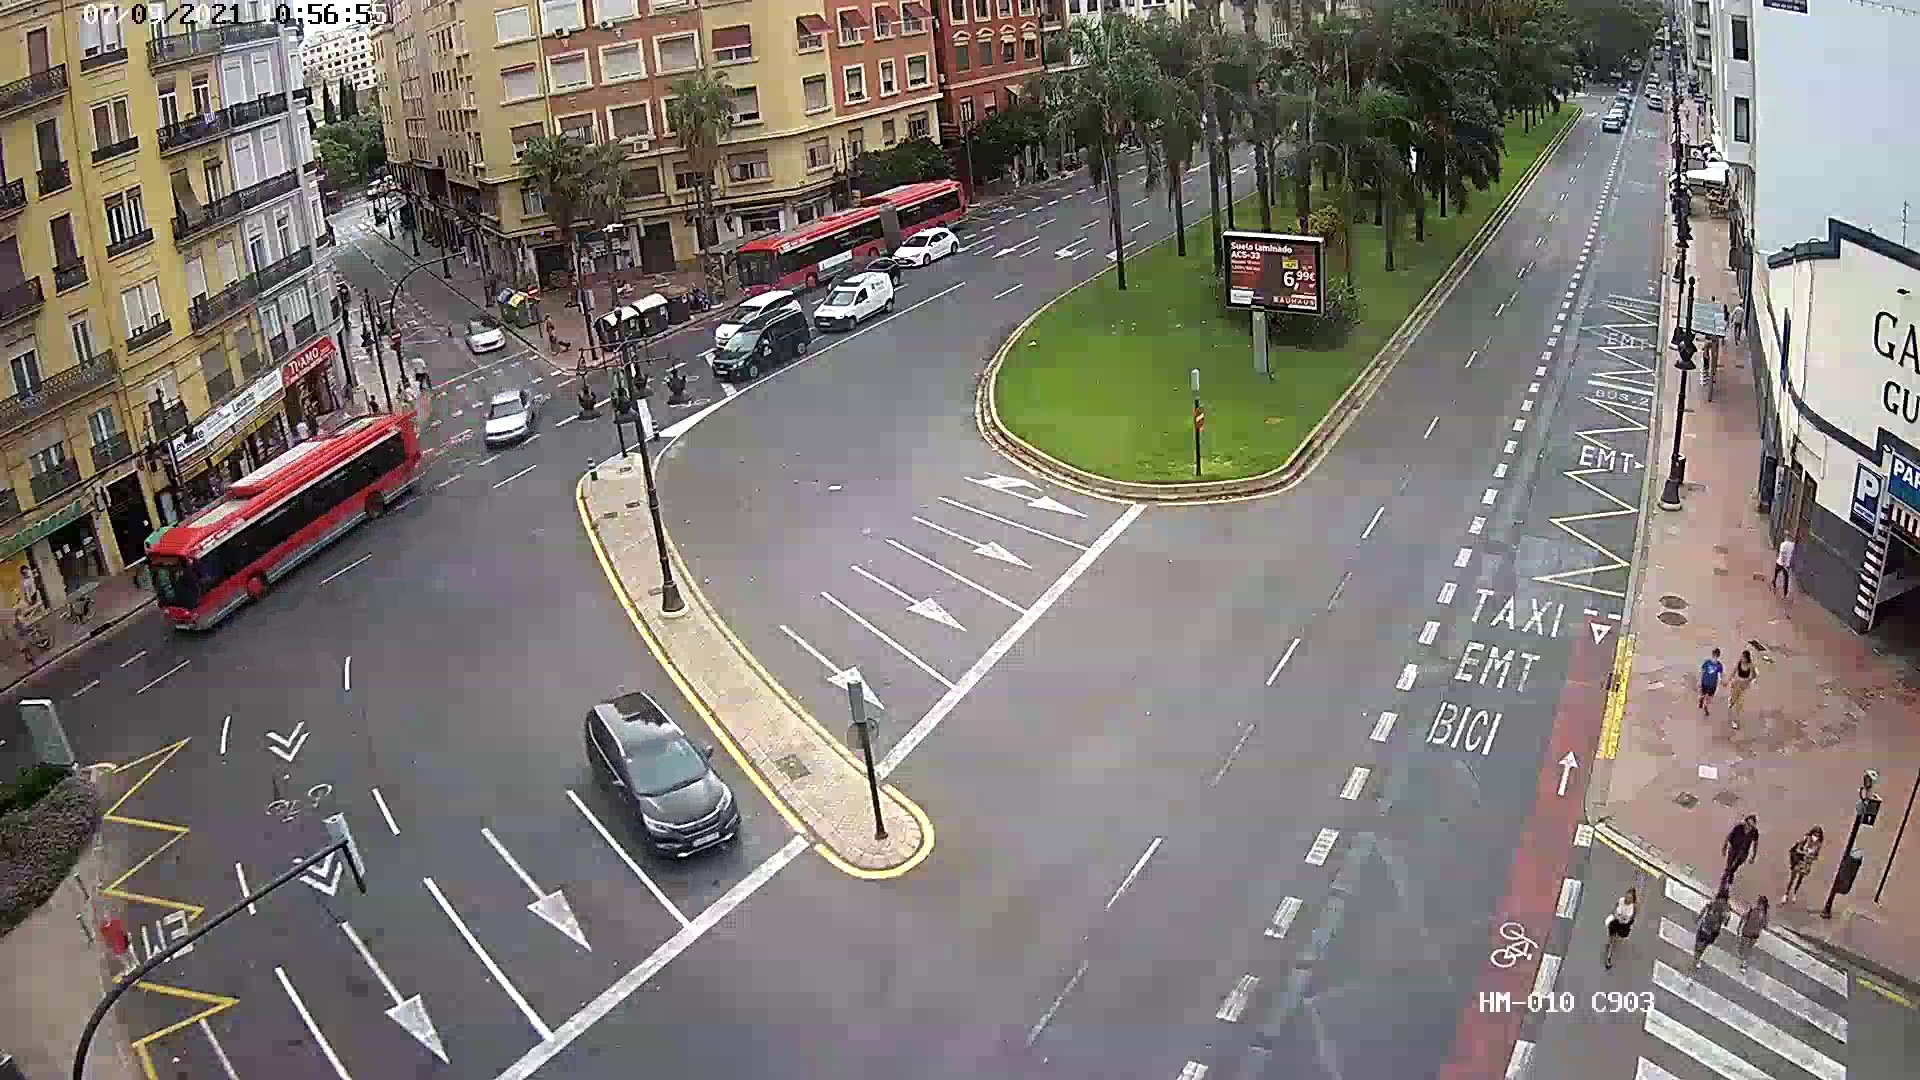Cars: (550, 691, 752, 855), (702, 328, 820, 376), (812, 285, 903, 324), (477, 390, 530, 452), (458, 315, 506, 357)
